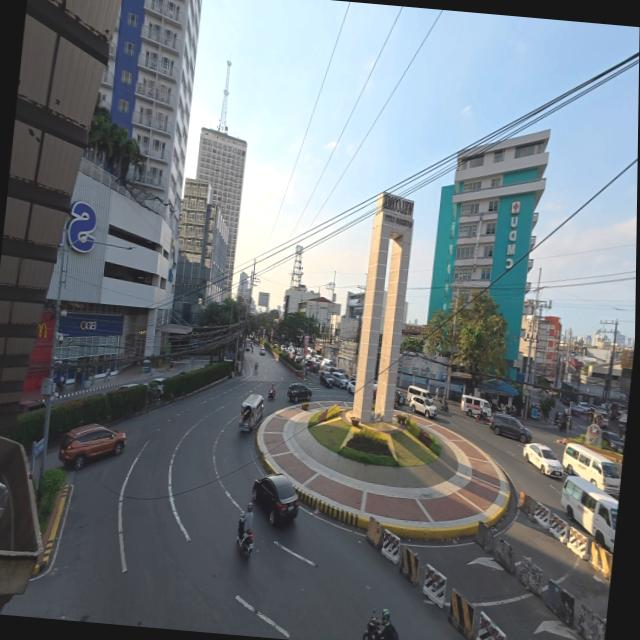Jeepneys: (239, 394, 262, 431)
car: (58, 424, 125, 469), (252, 475, 298, 524), (523, 444, 562, 477), (490, 414, 531, 443), (408, 395, 436, 418), (600, 431, 622, 452), (286, 383, 310, 402), (18, 400, 44, 413), (144, 377, 163, 394), (331, 371, 346, 388), (593, 411, 608, 427), (318, 371, 332, 387), (394, 390, 405, 405), (116, 383, 138, 390), (578, 402, 589, 413), (347, 381, 354, 394), (349, 372, 357, 382), (372, 382, 376, 391), (245, 343, 249, 351), (259, 349, 264, 355), (280, 345, 284, 351)
motorcycle: (236, 514, 253, 558), (362, 610, 381, 639), (474, 412, 490, 424), (439, 400, 447, 412), (553, 412, 559, 425), (267, 390, 274, 400)
vans: (561, 477, 618, 551), (562, 443, 620, 496), (460, 396, 490, 416), (406, 386, 431, 404)
